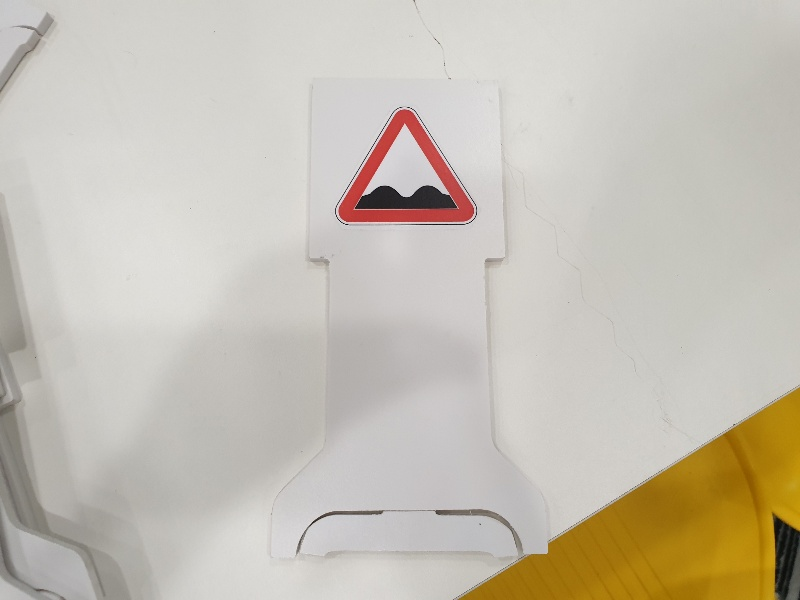Nerov: (321, 97, 485, 235)
